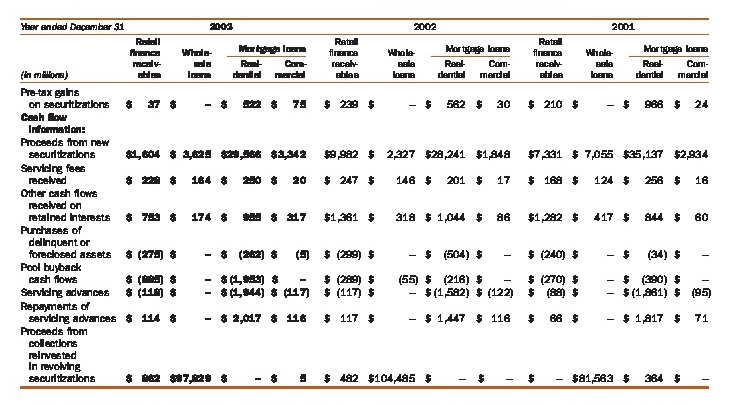table: (0, 0, 730, 404)
